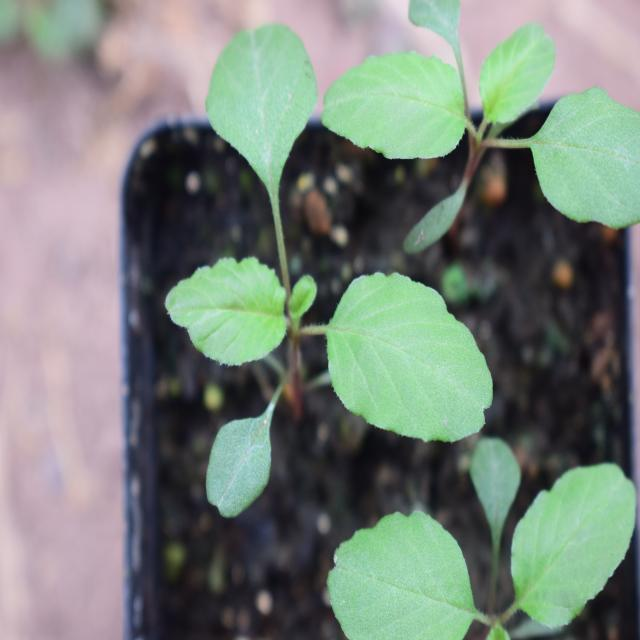pigweed: (173, 15, 483, 470)
